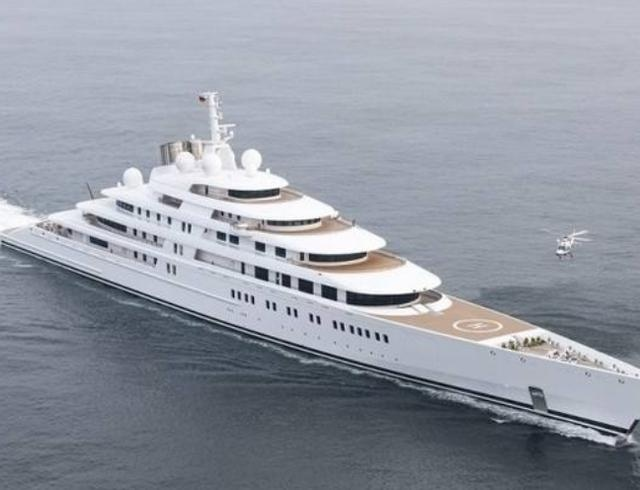airplane: (540, 231, 595, 260)
yacht: (10, 84, 638, 445)
